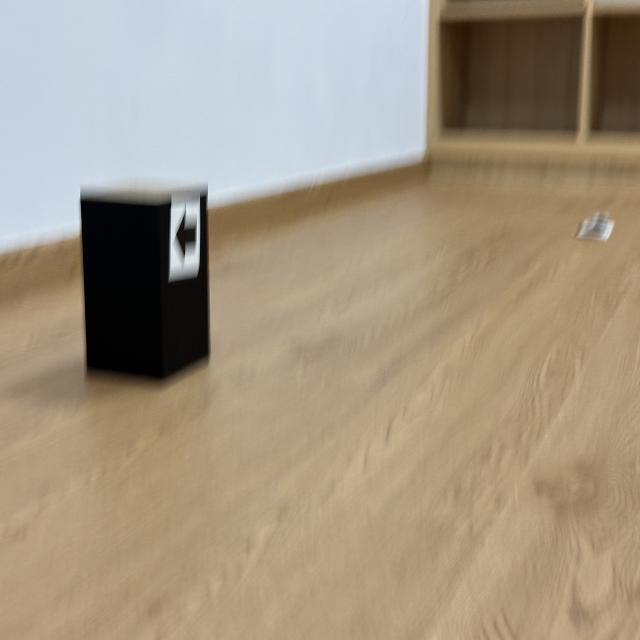LEFT: (176, 211, 196, 258)
